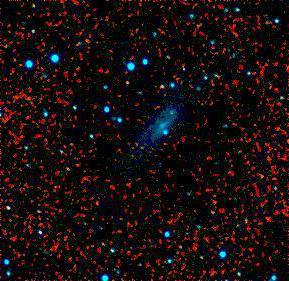star: (158, 98, 188, 128)
